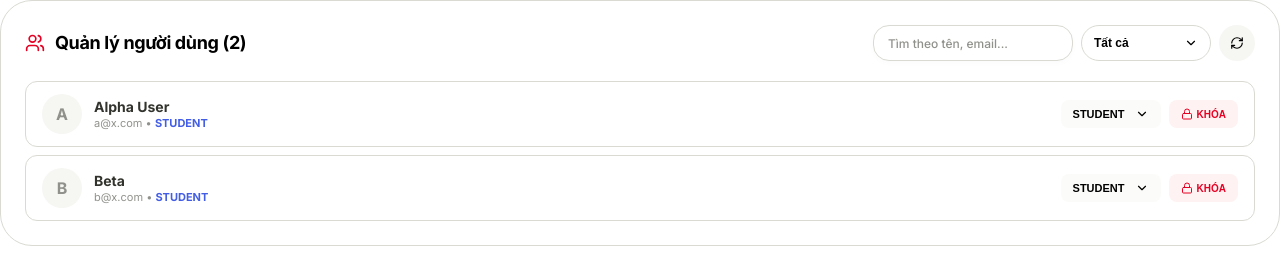
Test case: AdminUsers › filter_input_narrows_list_by_name
Type "Beta" into the field with placeholder "Tìm theo tên, email..." at (973, 43), box [873,25,1073,61]
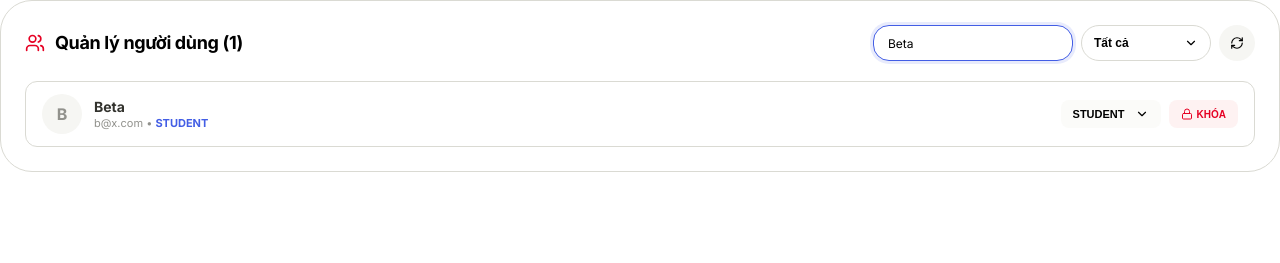
Expected: the text "Beta" is shown, [94,98,125,114]
Expected: the text "Alpha User" is gone
